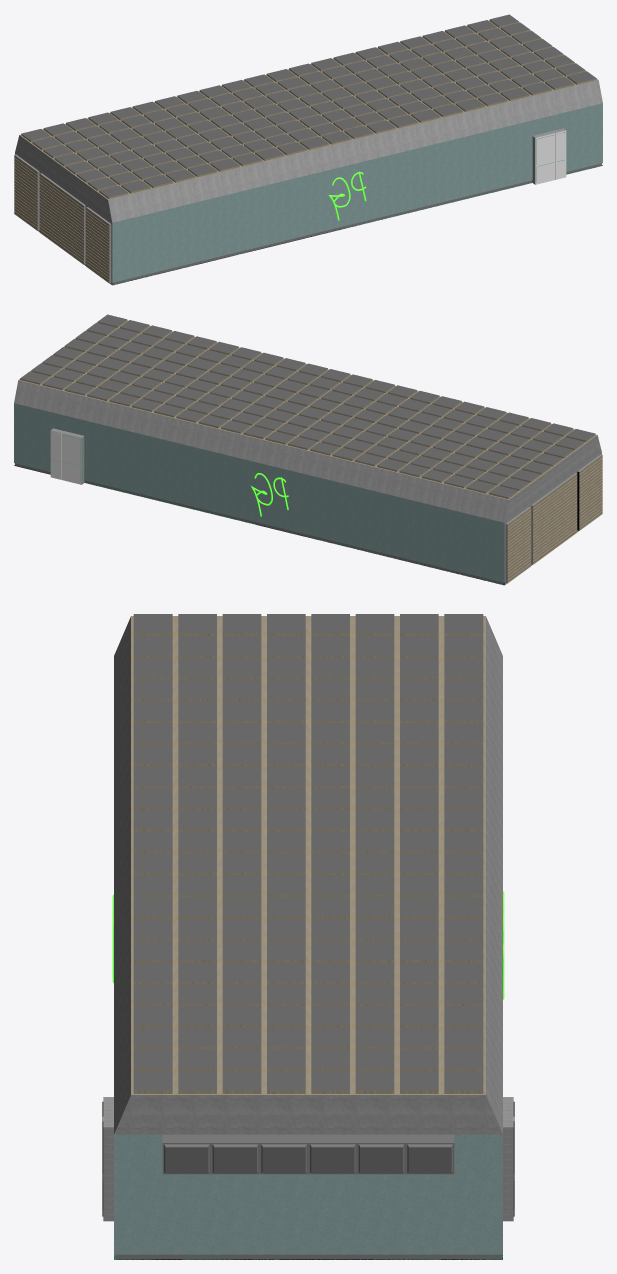
The model's file is Range.glb.
3 renders of one model, top to bottom at view 1: azimuth 30°, elevation 25°; view 2: azimuth 150°, elevation 25°; view 3: azimuth 270°, elevation 25°, orthographic. The views are drawn at different scales.
Visible parts, largest first — view 1: Object039_14 - Default_0, Object039_13 - Default_0, Object039_09 - Default_0, Object039_08 - Default_0, Object039_Material #191_0, Object039_plintus_0, Line002_Material #4680_0; view 2: Object039_14 - Default_0, Object039_13 - Default_0, Object039_09 - Default_0, Object039_08 - Default_0, Object039_Material #191_0, Object039_plintus_0, Line001; view 3: Object039_14 - Default_0, Object039_09 - Default_0, Object039_13 - Default_0, Object039_08 - Default_0, Object039_plintus_0.
Boxes of the visible parts, left/top/right/bottom form: Object039_14 - Default_0: left=21, top=14, right=596, bottom=197; Object039_13 - Default_0: left=112, top=103, right=602, bottom=282; Object039_09 - Default_0: left=14, top=19, right=598, bottom=283; Object039_08 - Default_0: left=14, top=80, right=602, bottom=284; Object039_Material #191_0: left=535, top=130, right=566, bottom=184; Object039_plintus_0: left=112, top=163, right=601, bottom=284; Line002_Material #4680_0: left=328, top=171, right=366, bottom=220; Object039_14 - Default_0: left=20, top=314, right=595, bottom=497; Object039_13 - Default_0: left=14, top=403, right=504, bottom=582; Object039_09 - Default_0: left=18, top=319, right=602, bottom=583; Object039_08 - Default_0: left=14, top=380, right=602, bottom=584; Object039_Material #191_0: left=50, top=430, right=81, bottom=484; Object039_plintus_0: left=15, top=463, right=504, bottom=584; Line001: left=251, top=473, right=288, bottom=516; Object039_14 - Default_0: left=133, top=614, right=483, bottom=1173; Object039_09 - Default_0: left=131, top=616, right=485, bottom=1094; Object039_13 - Default_0: left=114, top=1134, right=502, bottom=1254; Object039_08 - Default_0: left=103, top=617, right=513, bottom=1221; Object039_plintus_0: left=115, top=1134, right=501, bottom=1259.
Bounding box in the file's own units: 24.55 × 3.93 × 8.71.
14 materials, 5 textured.
